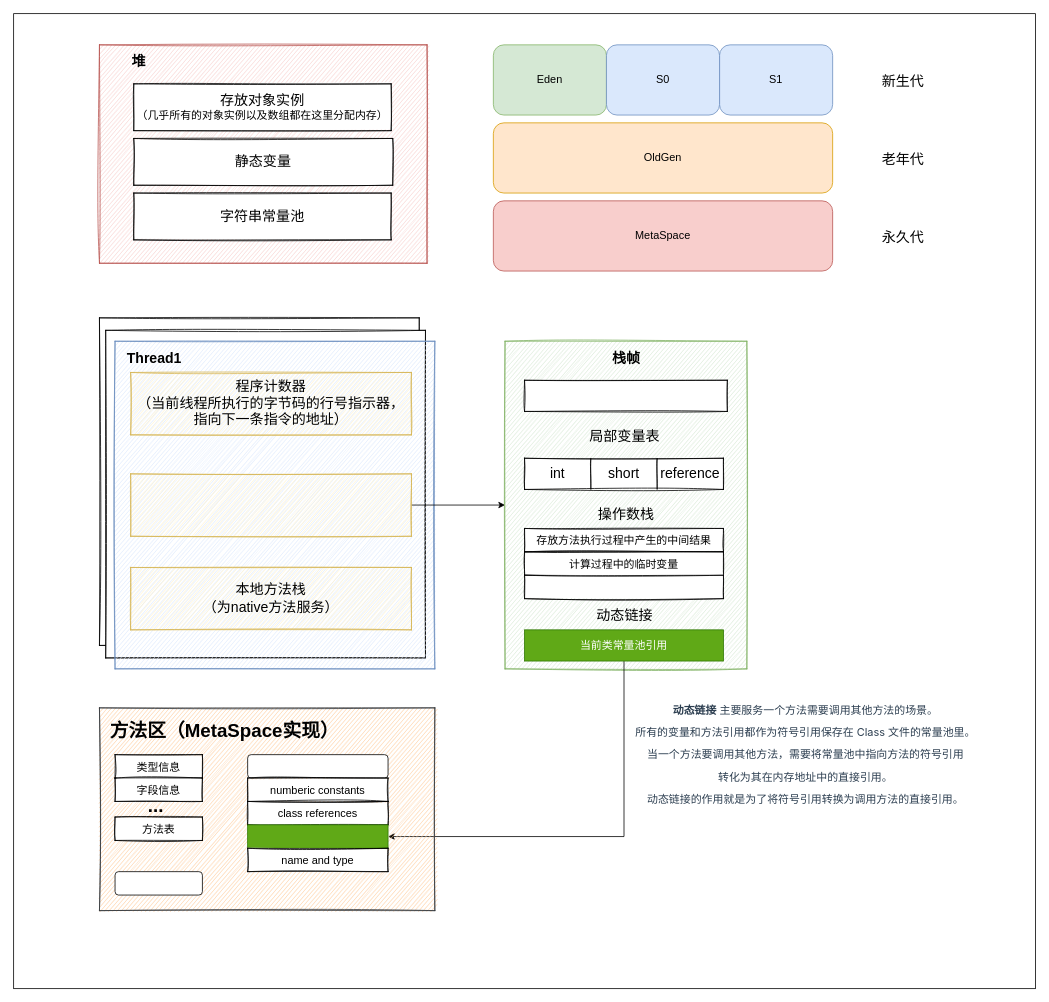
The diagram is 1049 pixels wide and 1002 high, and some of its shapes have lost their labels. The shapes that lost their labels are listed below. From the top down, each one's centre as x and y in pixels, then its label:
At pixel 625 395: "方法返回地址".
At pixel 270 504: "虚拟机栈".
At pixel 317 766: "运行时常量池".
At pixel 317 836: "method references".
At pixel 158 883: "JIT代码缓存".
